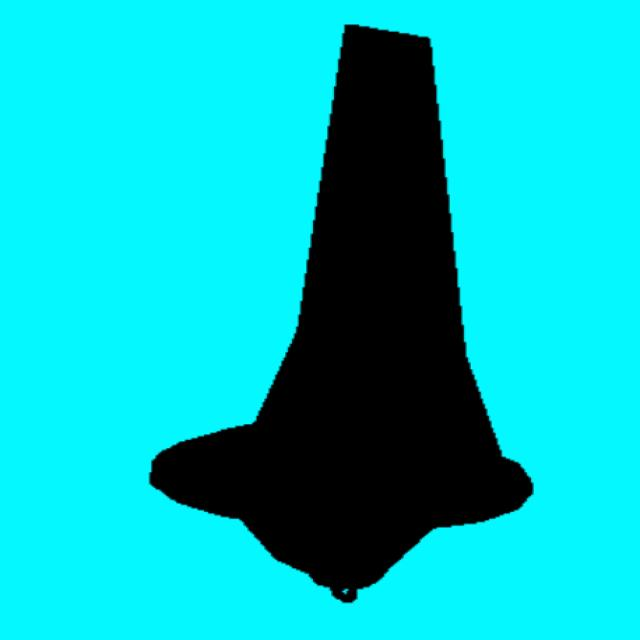BlackBuoy: (150, 25, 532, 602)
